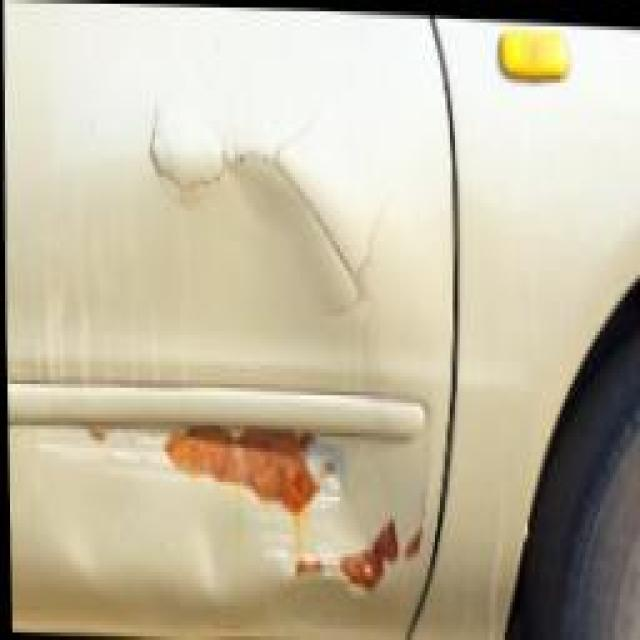Door: (31, 67, 433, 638)
